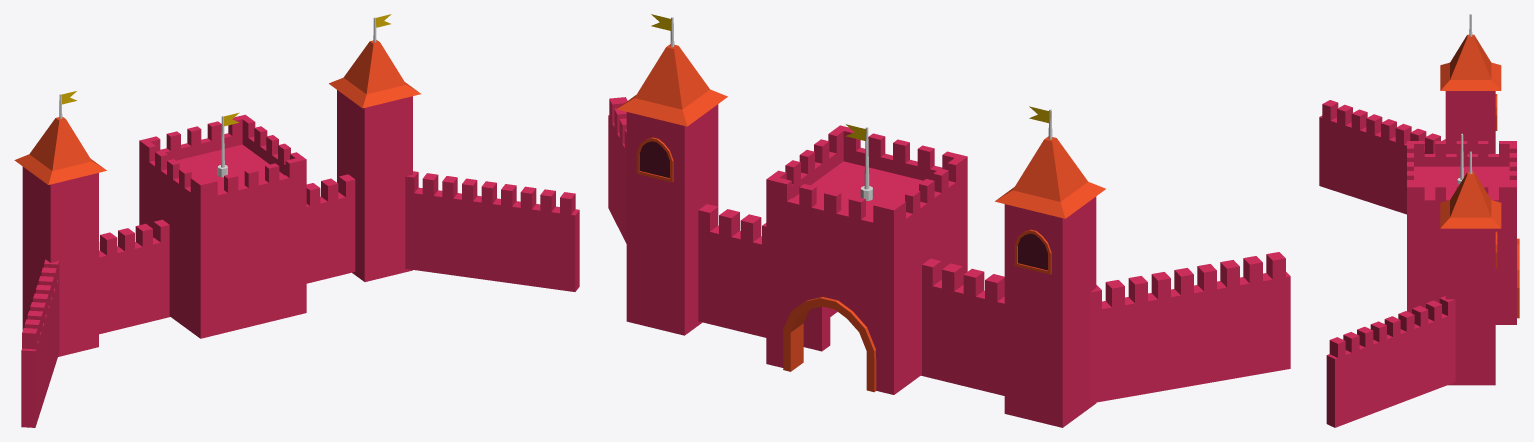
File: Castle3.fbx
3 views of the same model, side by side, from view 1: azimuth 30°, elevation 25°; view 2: azimuth 150°, elevation 25°; view 3: azimuth 270°, elevation 25° (orthographic). The views are drawn at different scales.
Visible parts, largest first — view 1: Cube.006, Walls.015, Cube.047, Cube.018, Walls.012, Walls.013, Walls.014, Cube.019, Cube.048; view 2: Cube.006, Walls.014, Cube.047, Cube.018, Walls.012, Walls.013, Cube.048, Cube.019, Cube.007, Walls.015, Cube.044, Cube.045; view 3: Cube.006, Walls.015, Walls.014, Cube.018, Cube.047, Cube.019, Cube.048, Cube.007.
Part boxes in pixels (x1,y1,x2,y2): Cube.006: [139, 114, 306, 338]; Walls.015: [405, 171, 579, 291]; Cube.047: [22, 166, 98, 356]; Cube.018: [337, 90, 412, 281]; Walls.012: [99, 219, 169, 334]; Walls.013: [306, 174, 355, 283]; Walls.014: [21, 259, 59, 427]; Cube.019: [329, 40, 420, 108]; Cube.048: [14, 116, 106, 184]; Cube.006: [766, 125, 967, 394]; Walls.014: [1090, 252, 1290, 403]; Cube.047: [1004, 196, 1096, 427]; Cube.018: [626, 104, 718, 335]; Walls.012: [921, 258, 1004, 395]; Walls.013: [698, 204, 830, 351]; Cube.048: [995, 136, 1105, 218]; Cube.019: [617, 44, 727, 126]; Cube.007: [783, 296, 876, 392]; Walls.015: [608, 97, 627, 243]; Cube.044: [636, 137, 673, 182]; Cube.045: [1014, 229, 1051, 274]; Cube.006: [1407, 141, 1516, 324]; Walls.015: [1326, 296, 1455, 427]; Walls.014: [1319, 100, 1445, 214]; Cube.018: [1445, 228, 1495, 385]; Cube.047: [1445, 91, 1495, 153]; Cube.019: [1440, 172, 1501, 228]; Cube.048: [1440, 34, 1501, 90]; Cube.007: [1517, 238, 1519, 318].
Bounding box in the file's own units: 62.99 × 26.56 × 21.69.
